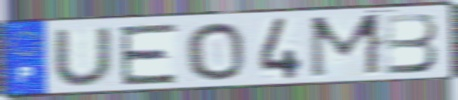4: (257, 15, 305, 82)
B: (382, 11, 440, 76)
E: (117, 21, 181, 87)
M: (307, 11, 386, 80)
O: (183, 21, 248, 82)
U: (50, 25, 116, 88)
